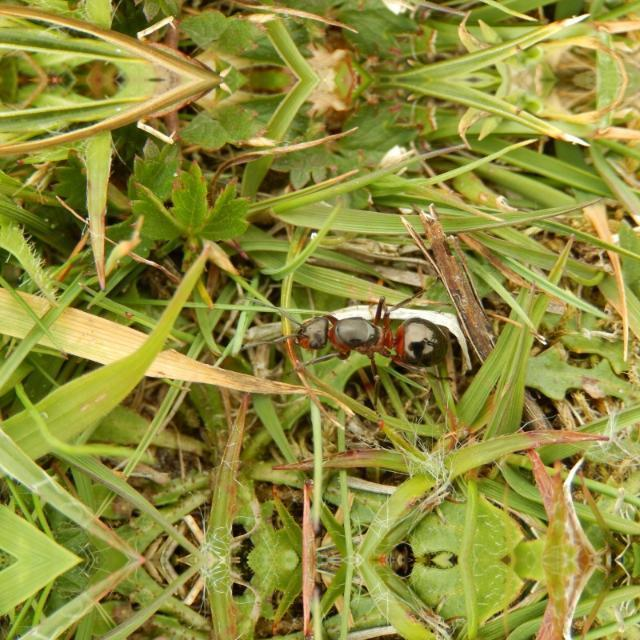Formica: (265, 287, 467, 393)
